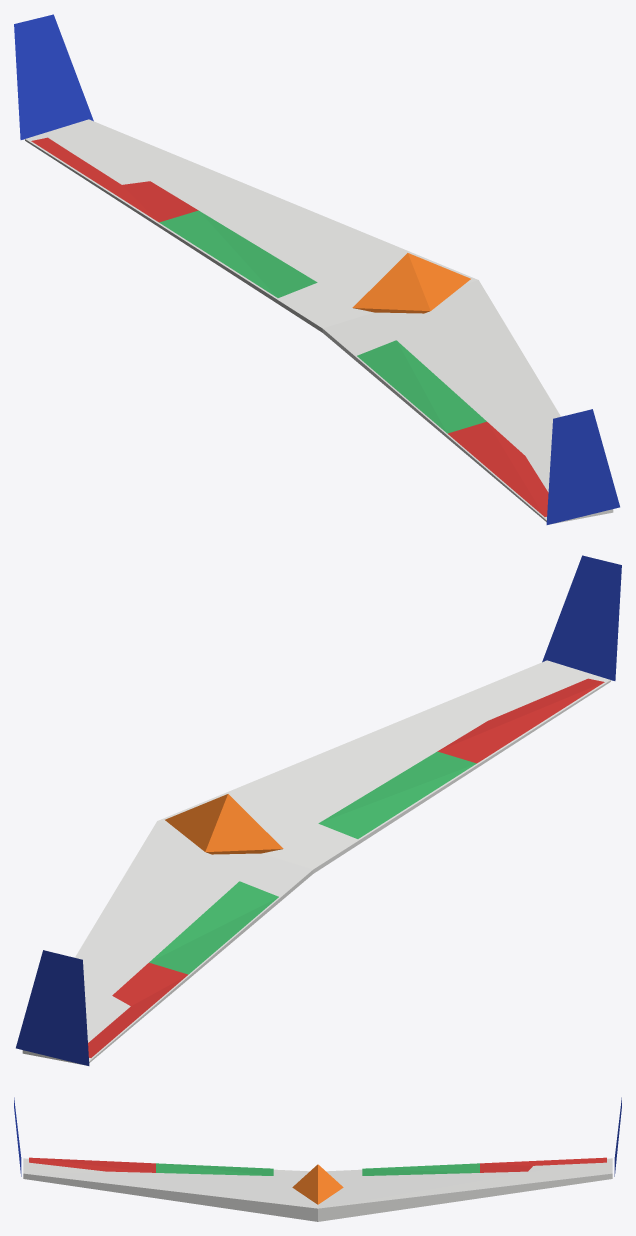
Rendered from SM_Glider_Placeholder.glb.
The picture shows the model from 3 angles, top to bottom: view 1: azimuth 30°, elevation 25°; view 2: azimuth 150°, elevation 25°; view 3: azimuth 270°, elevation 25°; orthographic projection. The views are drawn at different scales.
Parts seen in each view (by area): view 1: SM_Glider_Placeholder; view 2: SM_Glider_Placeholder; view 3: SM_Glider_Placeholder.
Boxes of the visible parts, x1,y1,x2,y2 form: SM_Glider_Placeholder: (14, 14, 619, 524); SM_Glider_Placeholder: (16, 555, 621, 1065); SM_Glider_Placeholder: (14, 1097, 621, 1221).
Size of the model in its own units: 1.37 by 0.87 by 6.6.
1 material, 1 textured.
